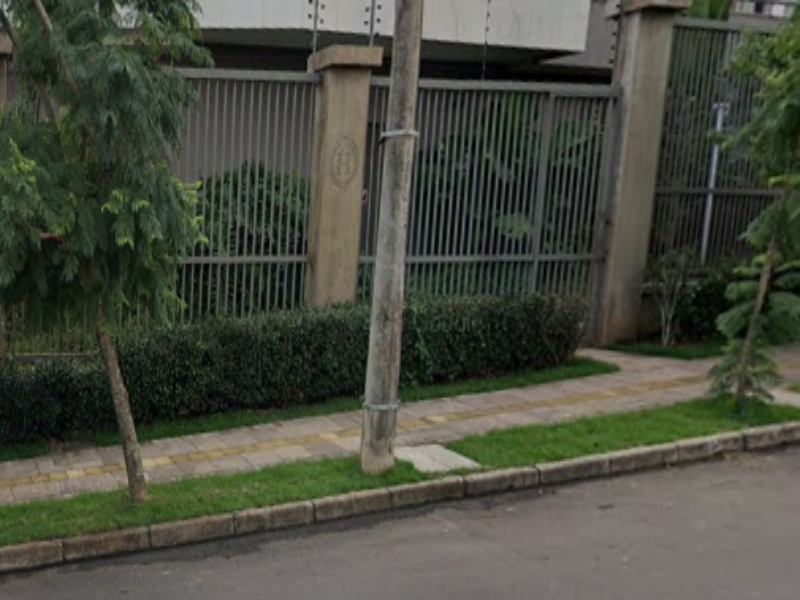v2: (1, 398, 796, 600)
